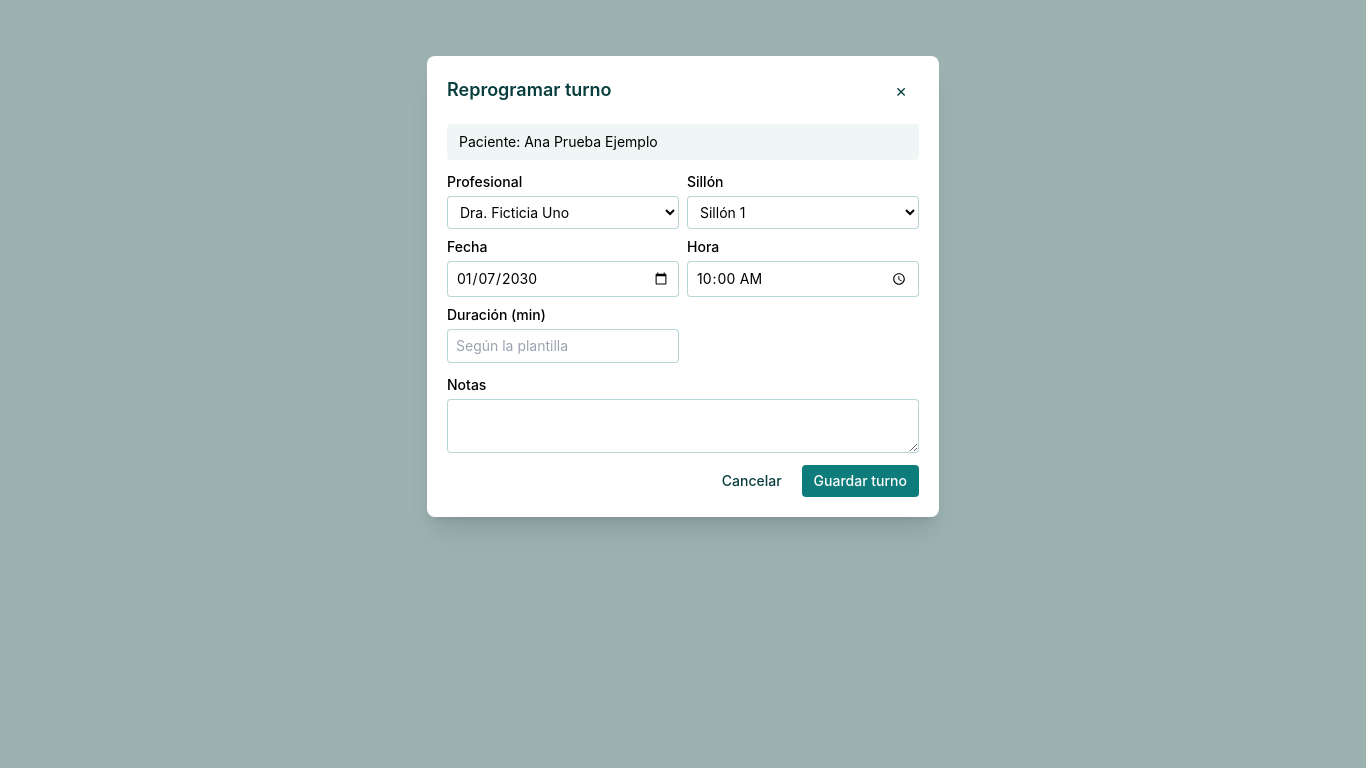
AppointmentForm — reprogramar › envía solo los cambios y ante rechazo no cierra
Expected: the text "Paciente: Ana Prueba Ejemplo" is shown, [459,132,658,152]
Replace the text in the time field labelled "Hora" with "11:00" at coordinates (803, 279), box [687,261,919,297]
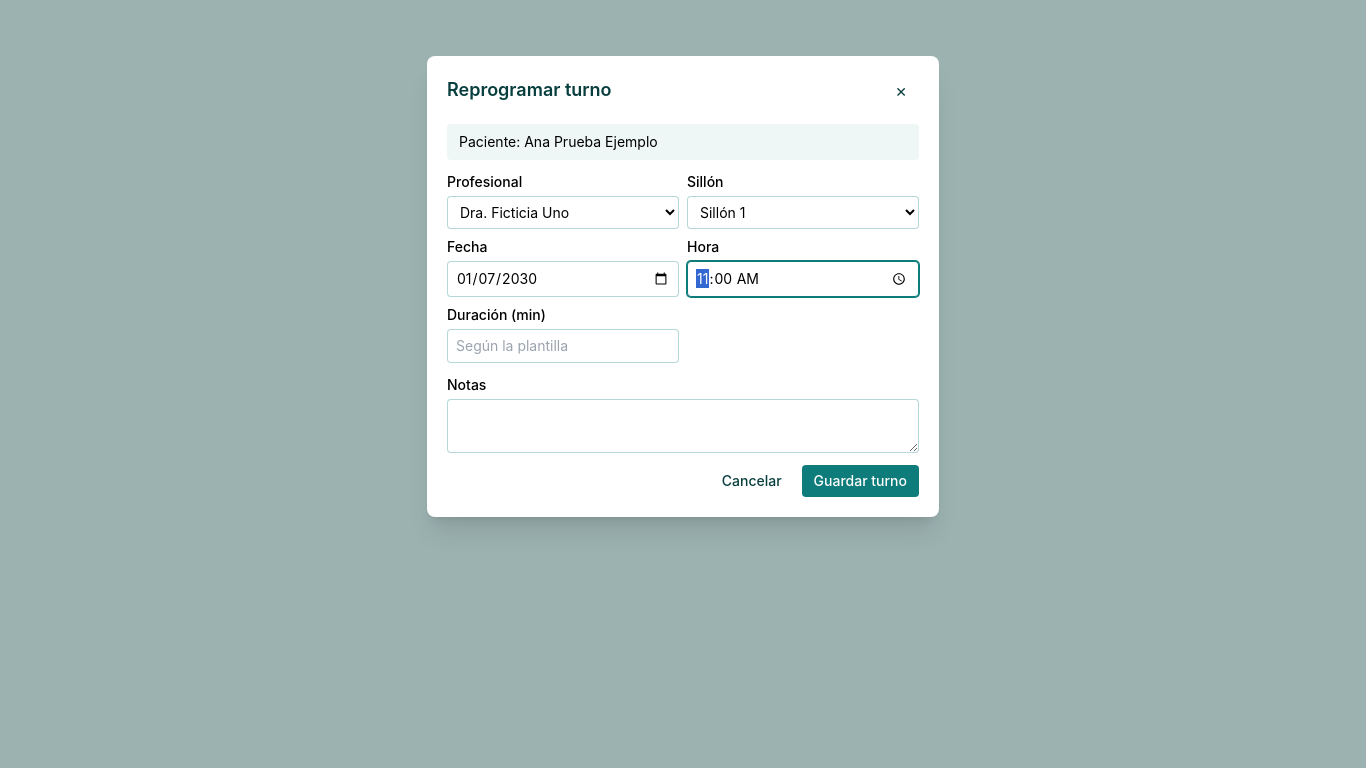
Click the button "Guardar turno" at coordinates (860, 481), box [802,465,919,497]
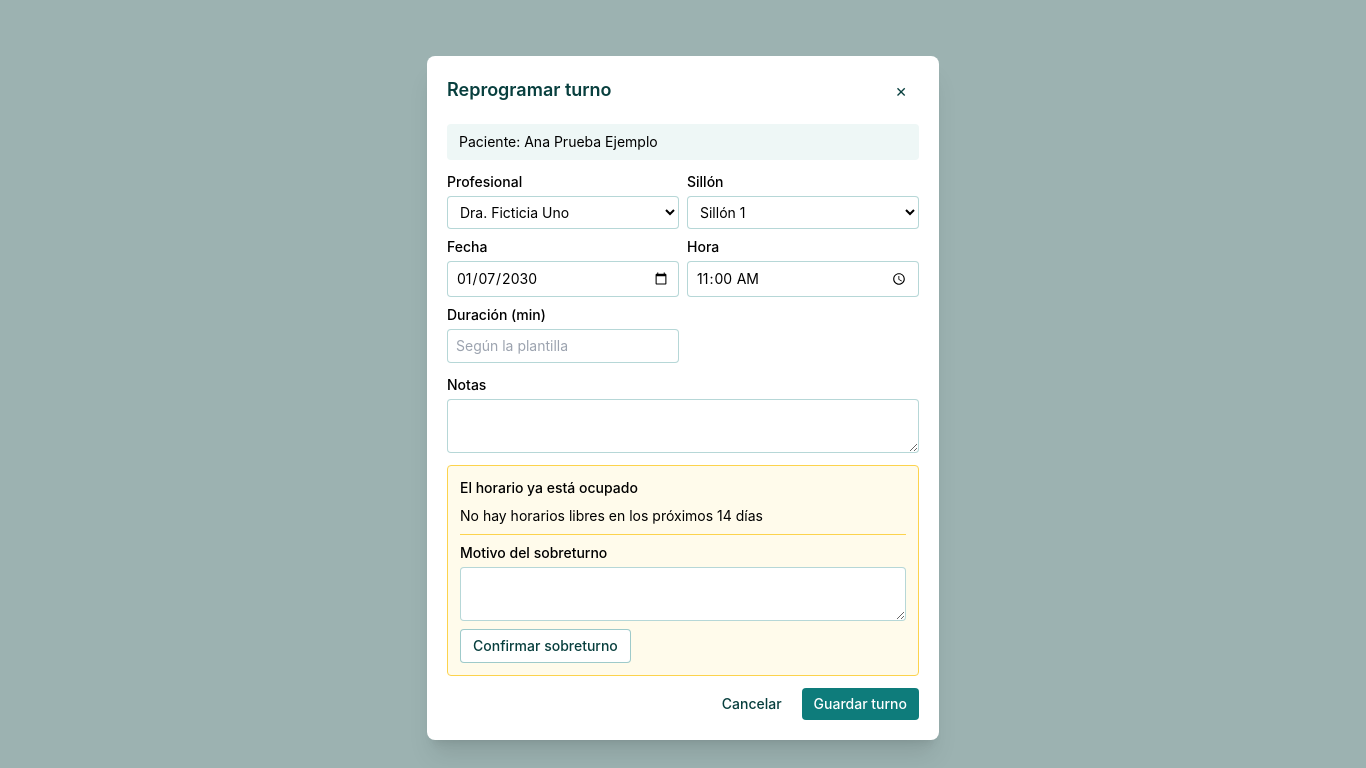
Now the text "El horario ya está ocupado" is shown, box [460,479,638,496]
Now the text "No hay horarios libres en los próximos 14 días" is shown, box [460,507,763,524]
